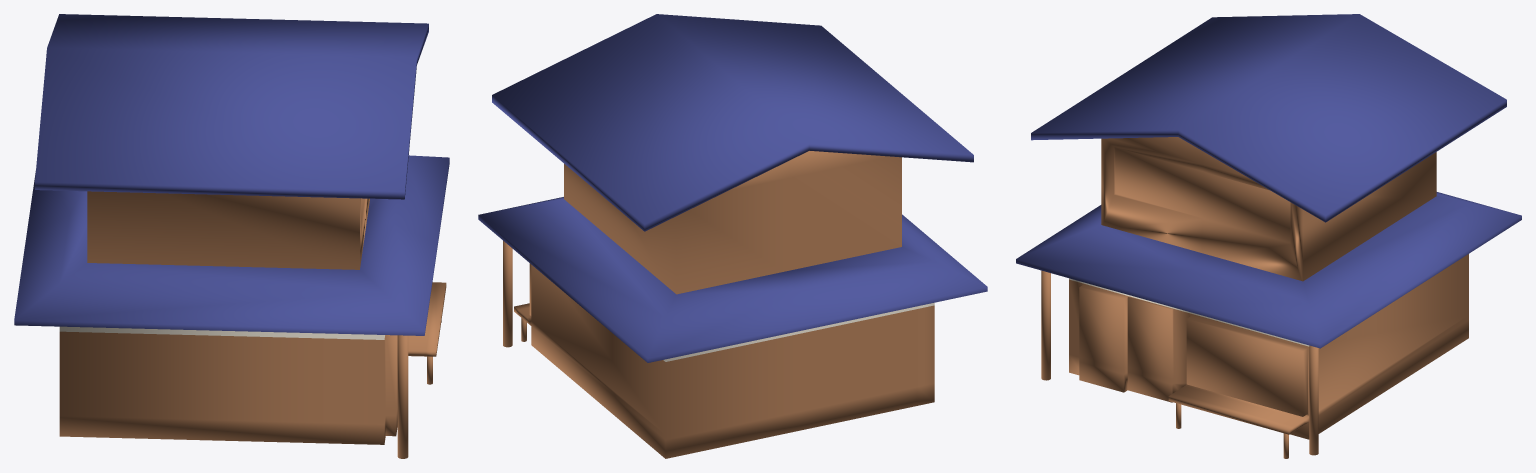
The model's file is 063_古民家019.glb.
3 renders of one model, left to right at view 1: azimuth 30°, elevation 25°; view 2: azimuth 150°, elevation 25°; view 3: azimuth 270°, elevation 25°, orthographic. The views are drawn at different scales.
Visible parts, largest first — view 1: 立方体101_1, 立方体101_3, 立方体101_2, 立方体101, 立方体101_4; view 2: 立方体101_1, 立方体101_3, 立方体101, 立方体101_2; view 3: 立方体101_1, 立方体101_3, 立方体101_4, 立方体101.
Part boxes in pixels (left/top/right/bottom): 立方体101_1: left=14, top=14, right=449, bottom=335; 立方体101_3: left=59, top=191, right=446, bottom=444; 立方体101_2: left=59, top=326, right=384, bottom=339; 立方体101: left=397, top=282, right=441, bottom=458; 立方体101_4: left=385, top=335, right=397, bottom=436; 立方体101_1: left=478, top=14, right=987, bottom=362; 立方体101_3: left=514, top=151, right=934, bottom=458; 立方体101: left=503, top=241, right=530, bottom=347; 立方体101_2: left=663, top=302, right=934, bottom=361; 立方体101_1: left=1016, top=14, right=1521, bottom=348; 立方体101_3: left=1069, top=137, right=1468, bottom=439; 立方体101_4: left=1079, top=147, right=1307, bottom=416; 立方体101: left=1041, top=270, right=1318, bottom=458.
Size of the model in its own units: 4.32 by 2.75 by 4.32.
